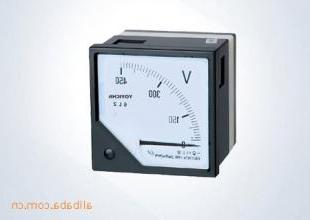pointer: (95, 53, 210, 170)
